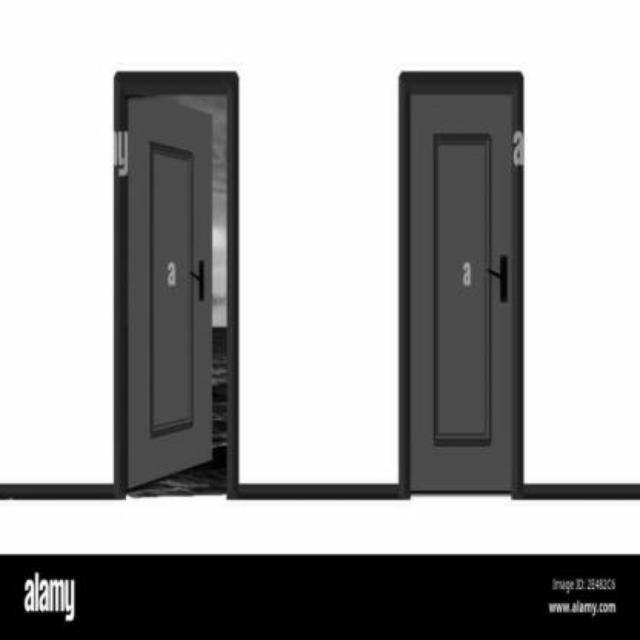door: (399, 70, 523, 494), (118, 88, 216, 490)
